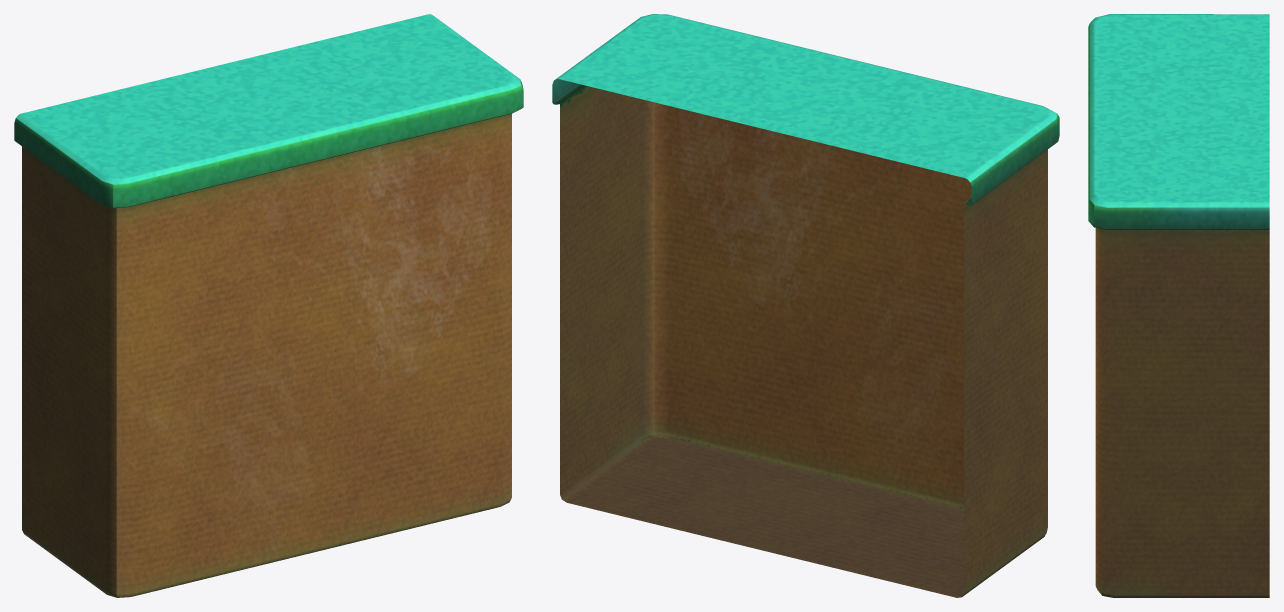
Rendered from JimenHi_D.fbx.
3 views of the same model, side by side, from view 1: azimuth 30°, elevation 25°; view 2: azimuth 150°, elevation 25°; view 3: azimuth 270°, elevation 25° (orthographic). The views are drawn at different scales.
Visible parts, largest first — view 1: StageHi; view 2: StageHi; view 3: StageHi.
Part boxes in pixels (left/top/right/bottom): StageHi: left=14, top=14, right=523, bottom=597; StageHi: left=552, top=14, right=1059, bottom=597; StageHi: left=1088, top=14, right=1269, bottom=597.
Size of the model in its own units: 13.27 by 12.76 by 5.25.
